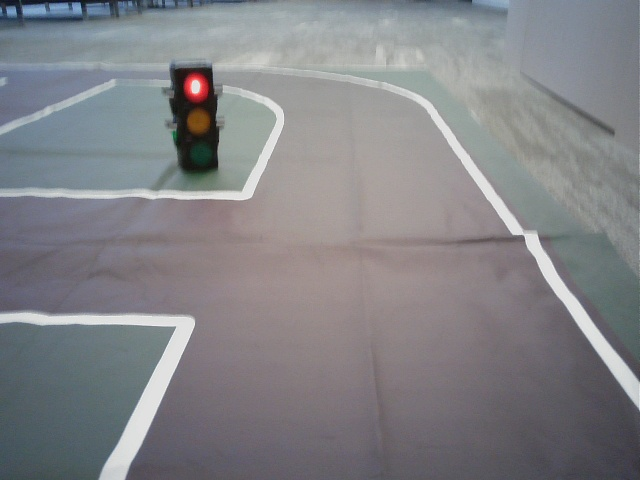red: (181, 68, 215, 165)
